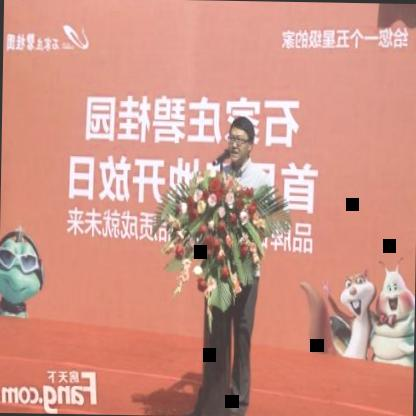head: (224, 116, 256, 163)
